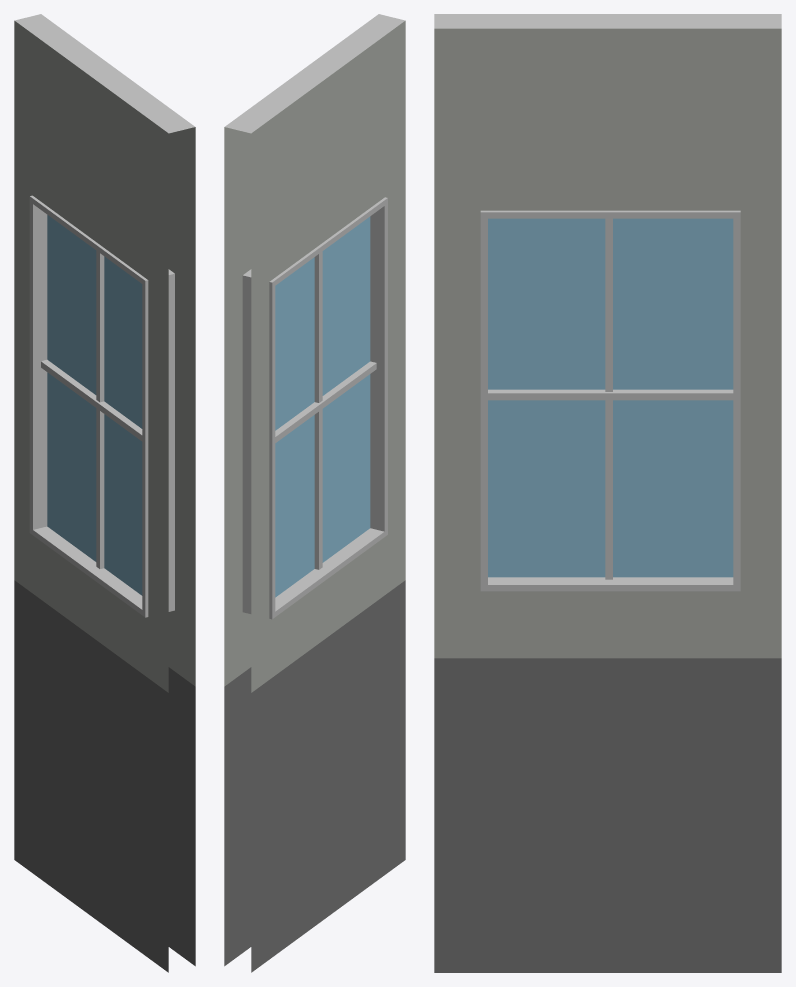
The model's file is SM_Window_01.fbx.
3 renders of one model, left to right at view 1: azimuth 30°, elevation 25°; view 2: azimuth 150°, elevation 25°; view 3: azimuth 270°, elevation 25°, orthographic. The views are drawn at different scales.
Parts seen in each view (by area): view 1: SM_Window_01; view 2: SM_Window_01; view 3: SM_Window_01.
Boxes of the visible parts, x1=… form: SM_Window_01: x1=14, y1=14, x2=195, y2=972; SM_Window_01: x1=224, y1=14, x2=405, y2=972; SM_Window_01: x1=434, y1=14, x2=781, y2=972.
Size of the model in its own units: 12.34 by 300 by 100.
